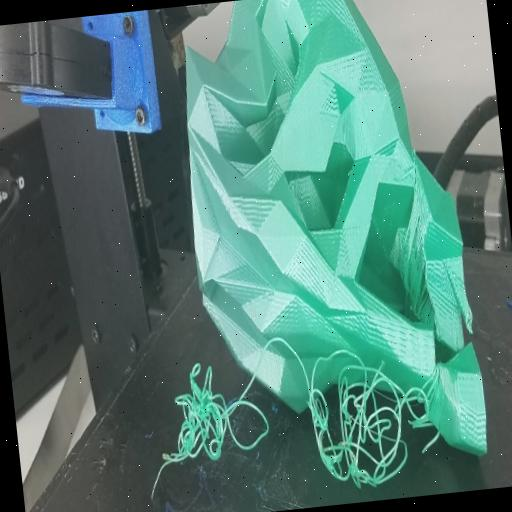spaghetti: (297, 336, 441, 499), (154, 351, 274, 491)
